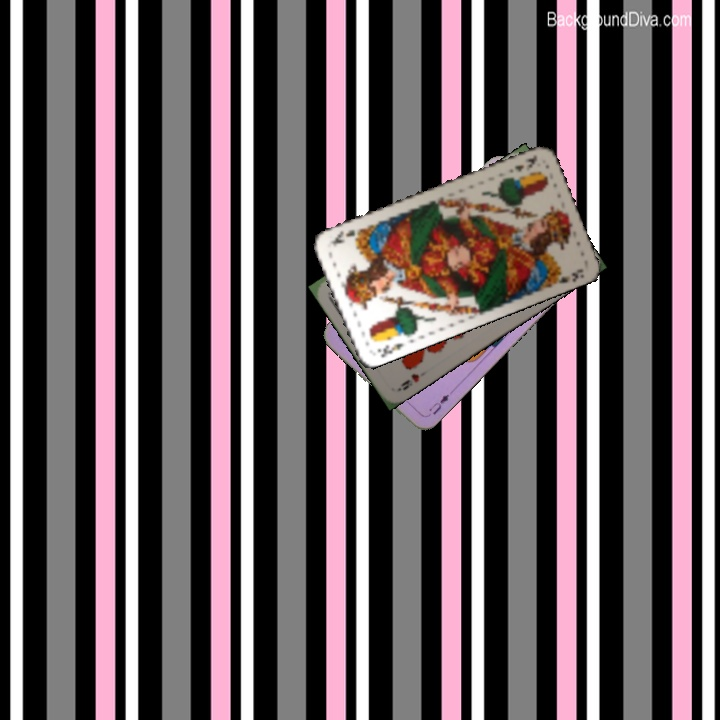EK: (505, 151, 540, 175), (373, 339, 406, 359)
EU: (425, 388, 453, 418)
H9: (394, 370, 422, 394)
